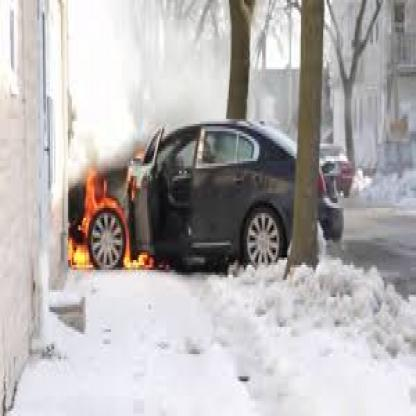fire: (65, 122, 337, 283)
